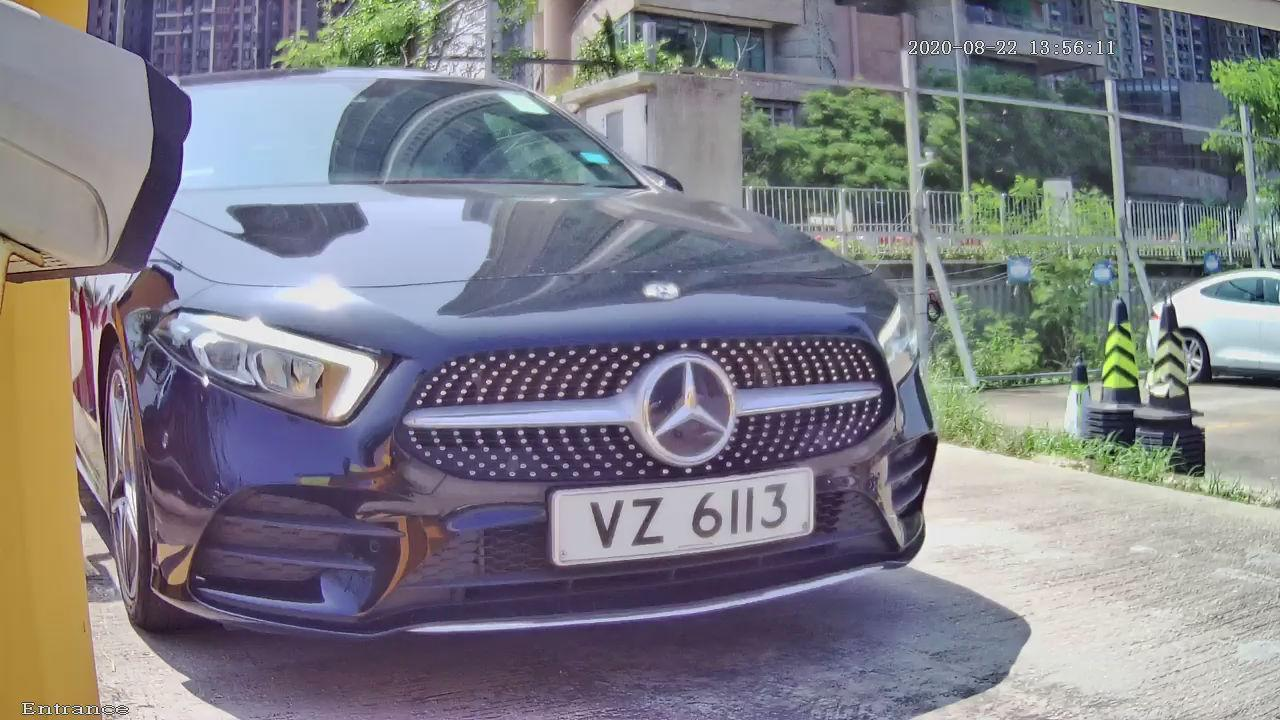Car: (98, 7, 1023, 708)
License Plate: (494, 431, 870, 621)
